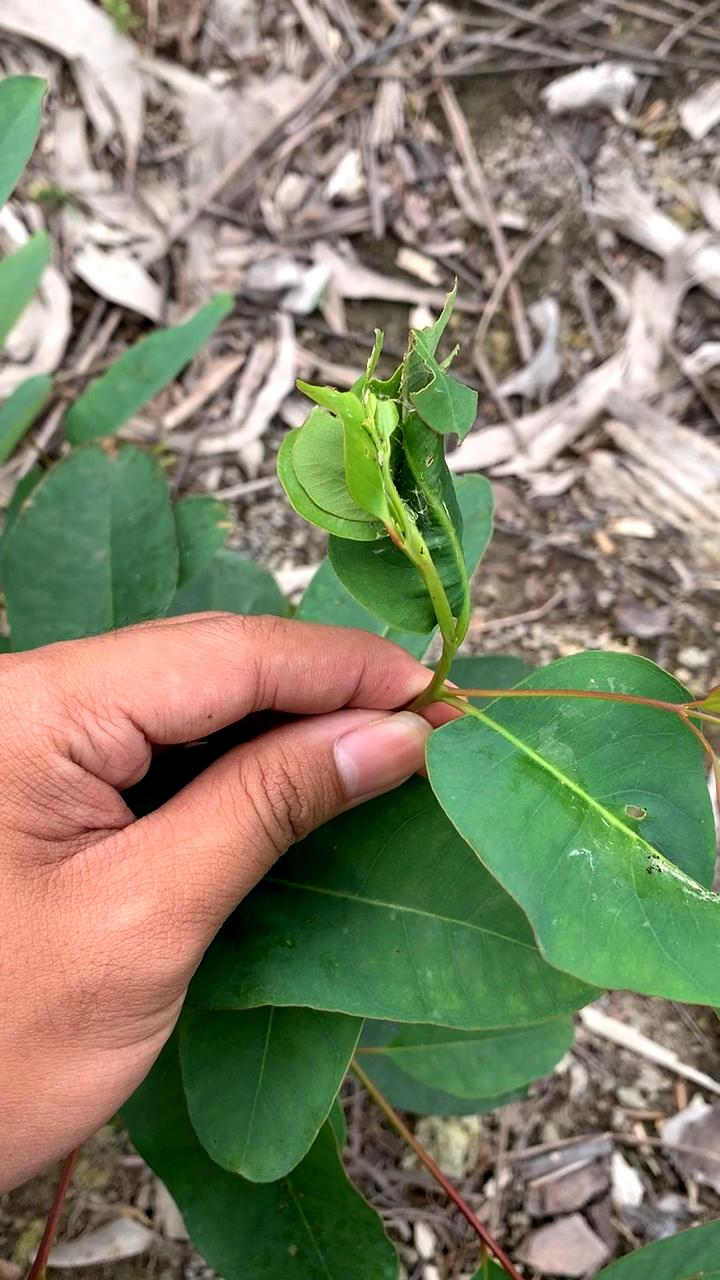Leaf Roller - Leaf: (277, 275, 496, 656)
